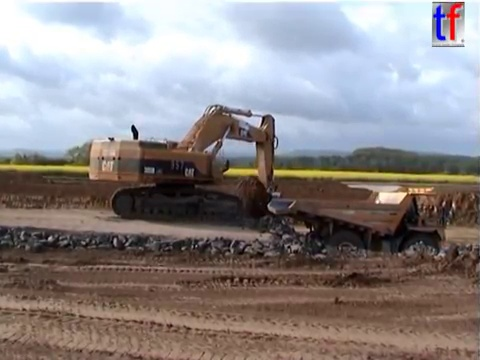excavator: (86, 102, 284, 224)
truck: (263, 184, 454, 273)
